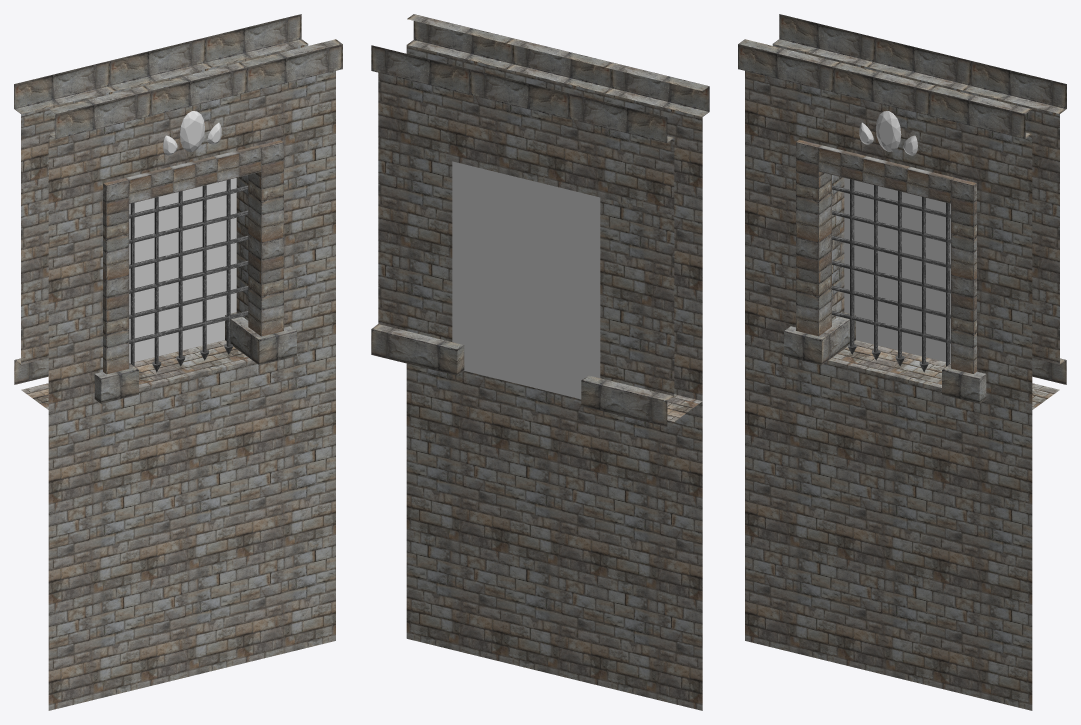
Rendered from CircularWallGate.fbx.
3 views of the same model, side by side, from view 1: azimuth 30°, elevation 25°; view 2: azimuth 150°, elevation 25°; view 3: azimuth 330°, elevation 25° (orthographic). The views are drawn at different scales.
Visible parts, largest first — view 1: GateWall, GateFrame, BlackPlane, Gate, Gems; view 2: GateWall, BlackPlane; view 3: GateWall, GateFrame, BlackPlane, Gate, Gems.
Part boxes in pixels (box(x1,y1,x2,y2)): GateWall: box(14, 14, 342, 710); GateFrame: box(103, 140, 283, 374); BlackPlane: box(129, 178, 236, 363); Gate: box(129, 179, 248, 372); Gems: box(163, 111, 221, 155); GateWall: box(371, 14, 709, 710); BlackPlane: box(452, 161, 600, 399); GateWall: box(738, 14, 1066, 710); GateFrame: box(796, 139, 976, 373); BlackPlane: box(844, 178, 950, 363); Gate: box(832, 179, 950, 372); Gems: box(859, 111, 917, 155).
Size of the model in its own units: 450 by 900 by 112.
